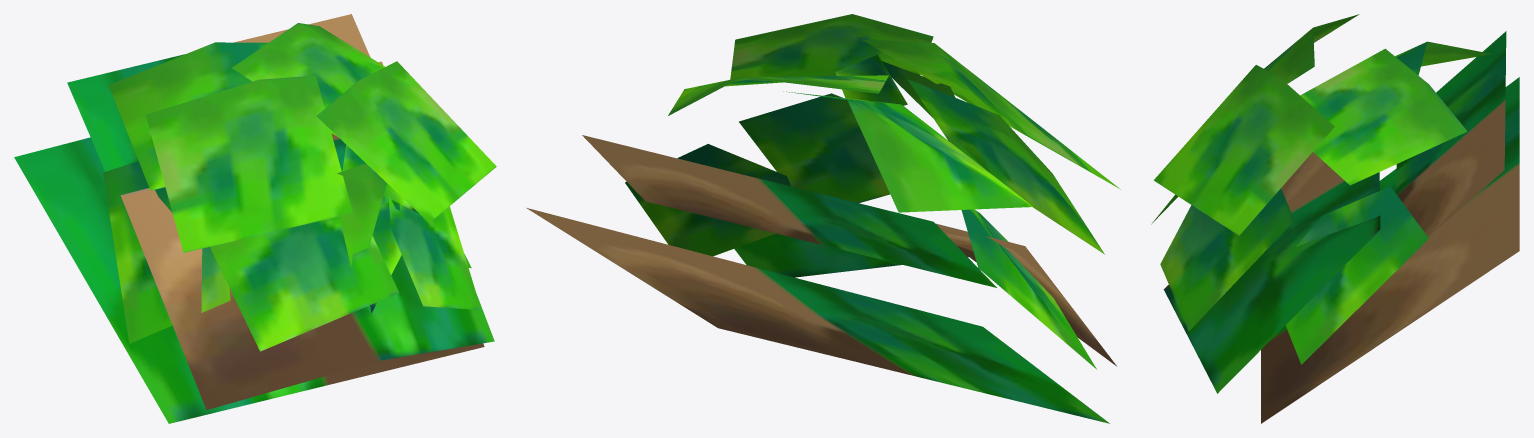
File: fg_bushB_2_pi.dae
3 views of the same model, side by side, from view 1: azimuth 30°, elevation 25°; view 2: azimuth 150°, elevation 25°; view 3: azimuth 270°, elevation 25° (orthographic). The views are drawn at different scales.
Parts seen in each view (by area): view 1: fg_bushB_2_pi; view 2: fg_bushB_2_pi; view 3: fg_bushB_2_pi.
Part boxes in pixels (left/top/right/bottom): fg_bushB_2_pi: left=14, top=14, right=496, bottom=423; fg_bushB_2_pi: left=526, top=14, right=1120, bottom=423; fg_bushB_2_pi: left=1151, top=14, right=1519, bottom=423.
Size of the model in its own units: 43.24 by 33.37 by 37.45.
Materials: 1 (1 with a texture image).
